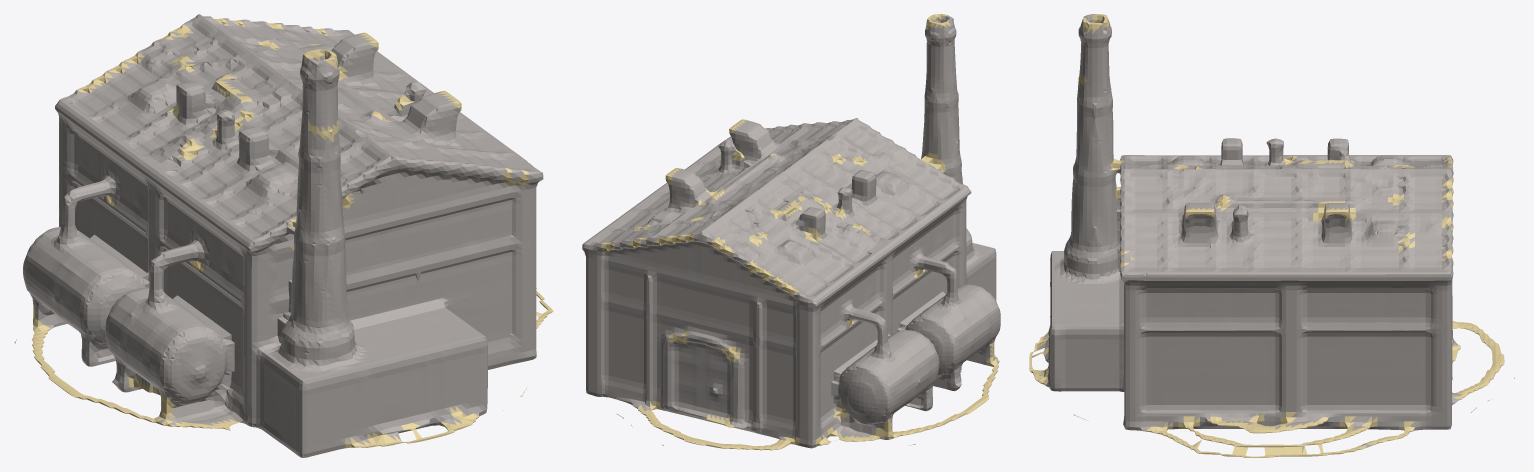
The model's file is bld_boiler.glb.
3 views of the same model, side by side, from view 1: azimuth 30°, elevation 25°; view 2: azimuth 150°, elevation 25°; view 3: azimuth 270°, elevation 25° (orthographic). The views are drawn at different scales.
Visible parts, largest first — view 1: Mesh_0; view 2: Mesh_0; view 3: Mesh_0.
Part boxes in pixels (box(x1,y1,x2,y2)): Mesh_0: box(14, 14, 553, 457); Mesh_0: box(582, 14, 1000, 450); Mesh_0: box(1029, 14, 1514, 457).
Size of the model in its own units: 3.65 by 2.87 by 4.
